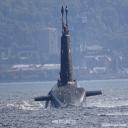submarine: (35, 6, 103, 109)
